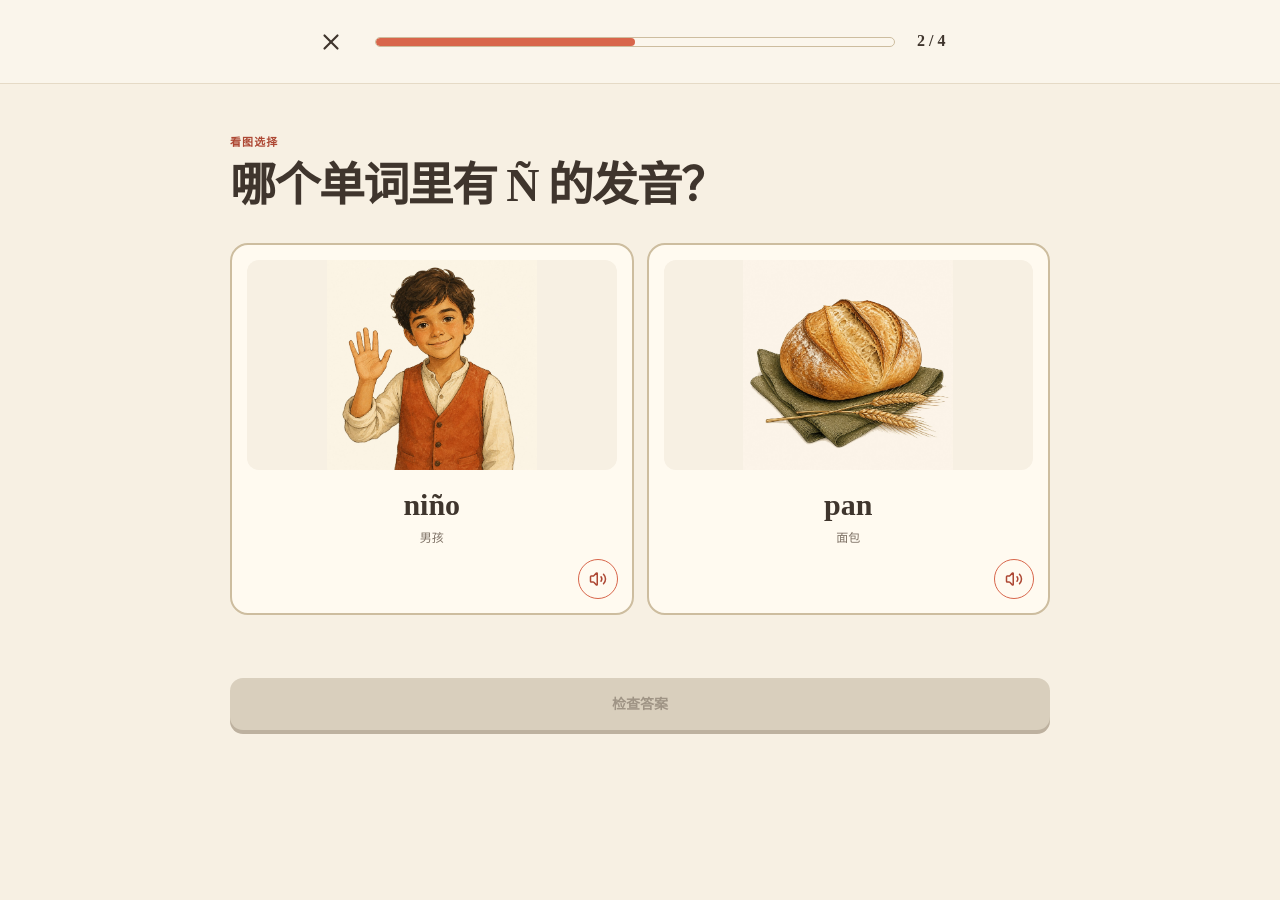
Scenario: LessonPlayer › gives no XP for an incorrect answer
The image size is (1280, 900).
Click the button with aria-label "选择 pan" at (848, 429), box top-left (648, 245), bottom-right (1048, 613)
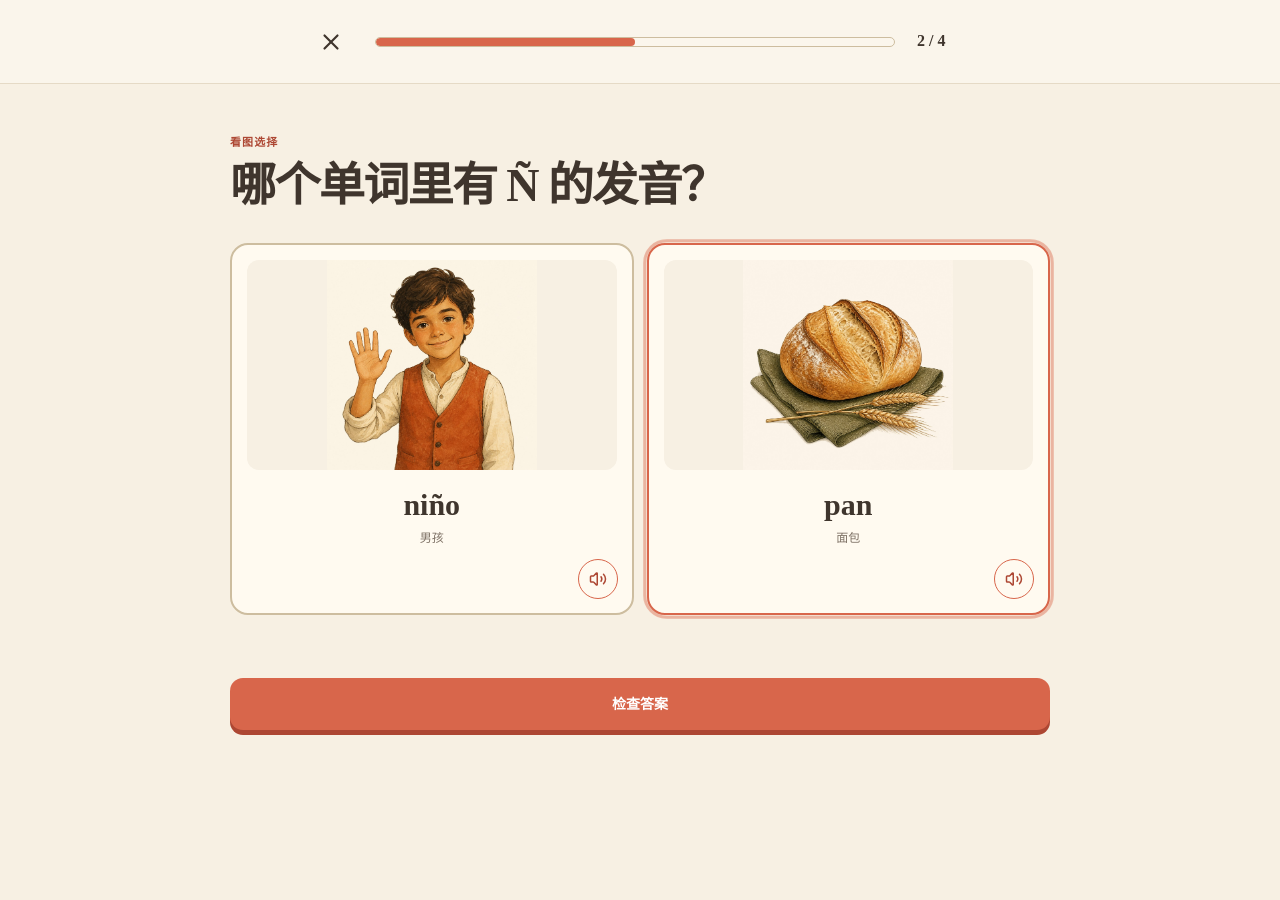
Click the button "检查答案" at (640, 704), box top-left (230, 678), bottom-right (1050, 730)
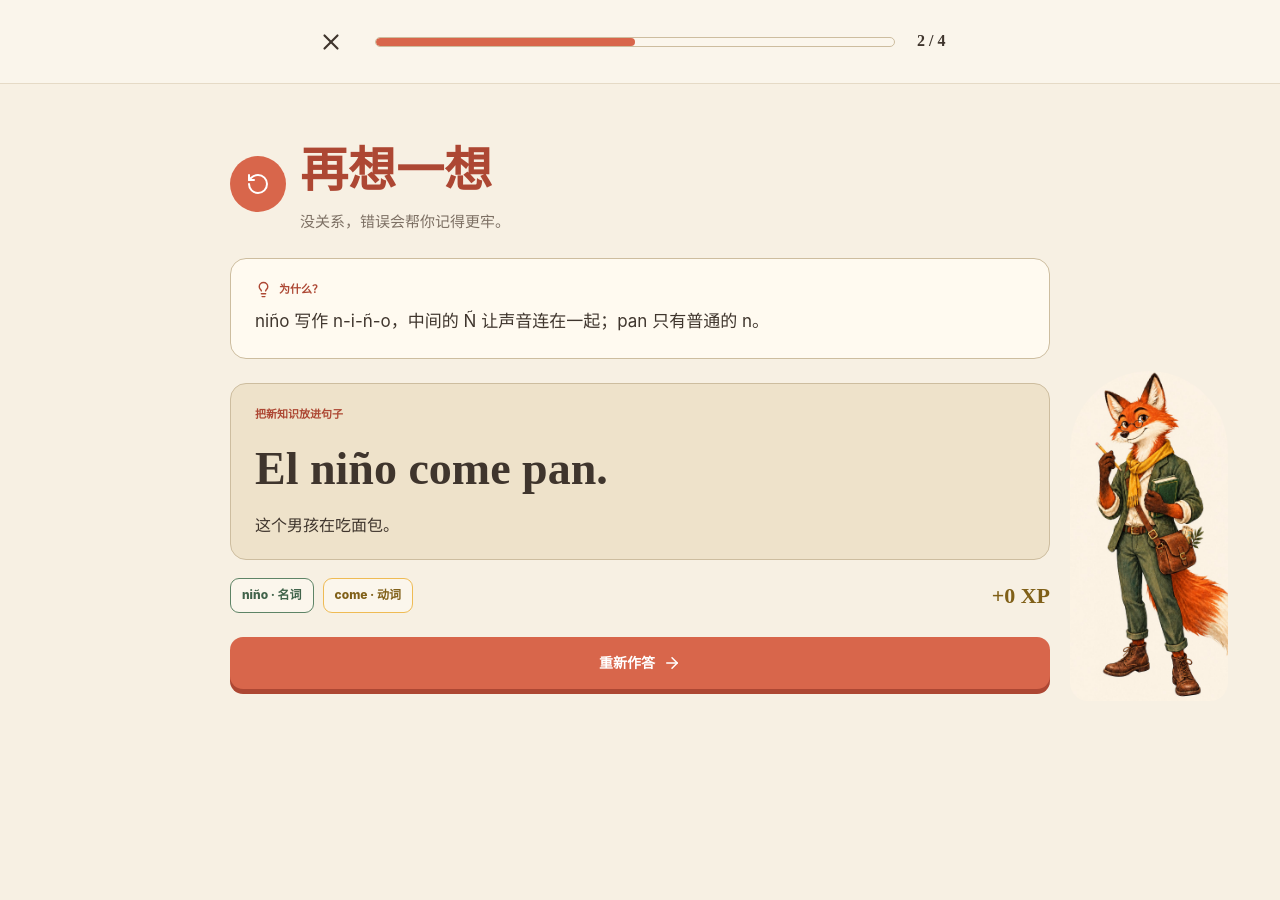
Expected: the text "+0 XP" is shown, top-left (992, 579), bottom-right (1050, 613)
